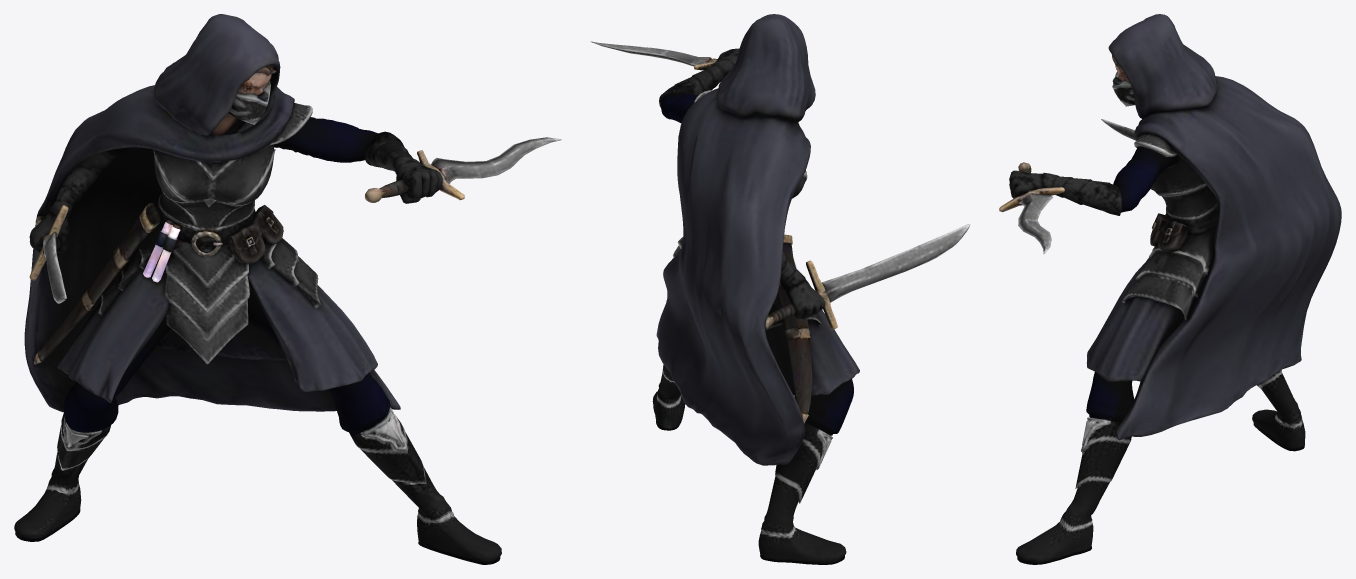
The model's file is MZ4250 - Assassin Female_1_2025.glb.
3 renders of one model, left to right at view 1: azimuth 30°, elevation 25°; view 2: azimuth 150°, elevation 25°; view 3: azimuth 270°, elevation 25°, orthographic. The views are drawn at different scales.
Visible parts, largest first — view 1: Body.002; view 2: Body.002; view 3: Body.002.
Boxes of the visible parts, bbox=[...] form: Body.002: bbox=[14, 14, 561, 564]; Body.002: bbox=[590, 14, 970, 564]; Body.002: bbox=[999, 14, 1341, 564].
Bounding box in the file's own units: 75.16 × 82.95 × 55.58.
Materials: 1 (1 with a texture image).
